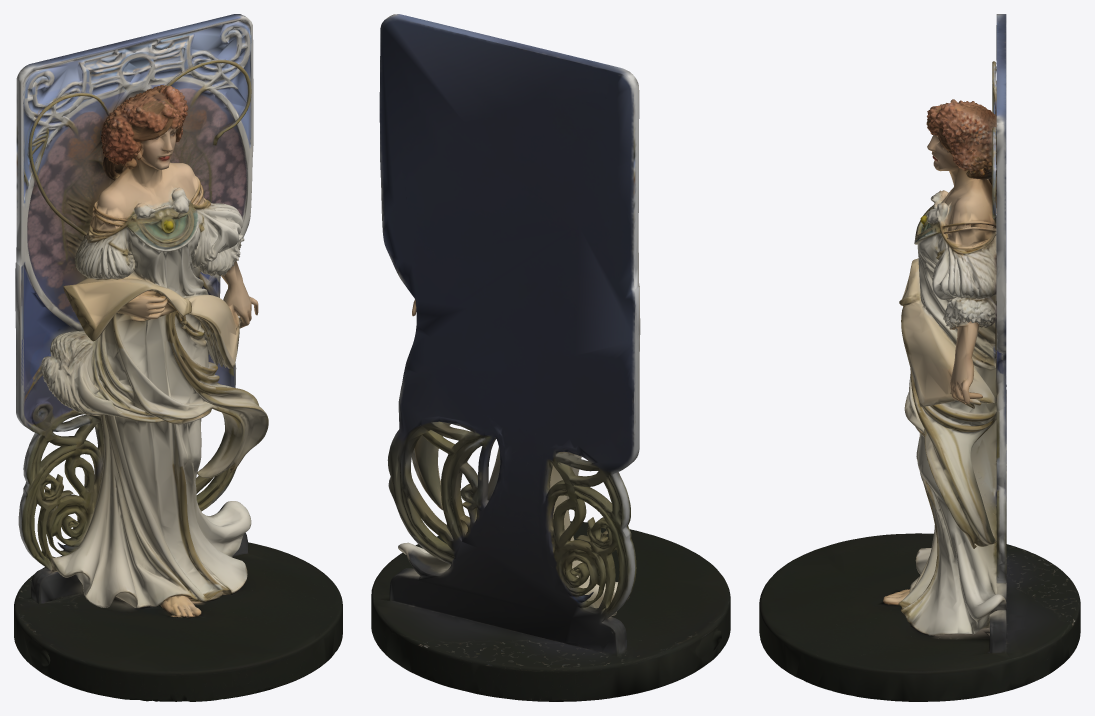
File: daydream-mucha-vr-lite.glb
3 views of the same model, side by side, from view 1: azimuth 30°, elevation 25°; view 2: azimuth 150°, elevation 25°; view 3: azimuth 270°, elevation 25° (orthographic). The views are drawn at different scales.
Visible parts, largest first — view 1: material; view 2: material; view 3: material.
Boxes of the visible parts, left/top/right/bottom form: material: left=14, top=14, right=342, bottom=701; material: left=371, top=14, right=730, bottom=701; material: left=759, top=14, right=1080, bottom=701.
Bounding box in the file's own units: 0.5617 × 1.06 × 0.5465.
1 material, 1 textured.
